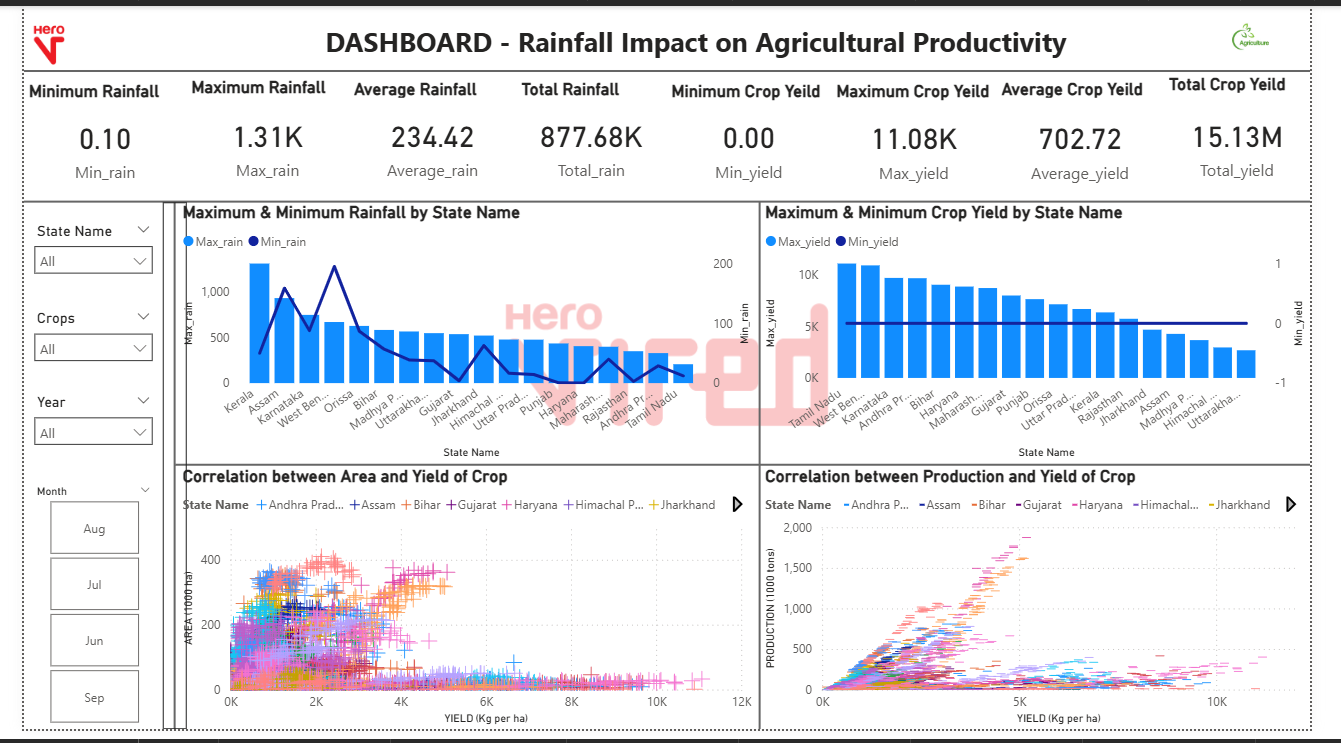

This screenshot's page, from the dashboard's own definition file:
{"tool":"powerbi","page":{"name":"Final Dashboard-3","canvas":[1280,720],"ordinal":2},"visuals":[{"type":"shape","box":[0,47.3,1280,34.8],"z":0},{"type":"image","box":[0,0,51,74.6],"z":1000},{"type":"textbox","box":[287.4,12.4,760.1,48.5],"z":2000},{"type":"slicer","fields":{"Values":["Dim_year.Year"]},"box":[0,380.7,138.1,64.7],"z":3000},{"type":"slicer","fields":{"Values":["Dim_crop.Crops"]},"box":[0,297.3,138.1,62.2],"z":4000},{"type":"slicer","fields":{"Values":["Dim_state.State Name"]},"box":[0,210.2,138.1,62.2],"z":5000},{"type":"shape","box":[0,179.1,1280,31.1],"z":6000},{"type":"shape","box":[150.5,436.6,1129.5,39.8],"z":7000},{"type":"shape","box":[721.5,194.1,21.1,526.2],"z":8000},{"type":"slicer","fields":{"Values":["Dim_rain_month.Month"]},"box":[0,471.5,138.1,248.8],"z":9000},{"type":"shape","box":[138.1,195.3,23.6,525],"z":10000},{"type":"card","title":"Average Crop Yeild","fields":{"Values":["All_Measures.Average_yeild"]},"box":[967.8,72.1,166.7,119.4],"z":11000},{"type":"card","title":"Average Rainfall","fields":{"Values":["All_Measures.Average_rain"]},"box":[323.4,72.1,166.7,114.4],"z":12000},{"type":"card","title":"Total Crop Yeild","fields":{"Values":["All_Measures.Total_yeild"]},"box":[1134.5,67.2,145.5,124.4],"z":13000},{"type":"card","title":"Maximum Crop Yeild","fields":{"Values":["All_Measures.Max_yeild"]},"box":[803.6,74.6,164.2,114.4],"z":14000},{"type":"card","title":"Minimum Crop Yeild","fields":{"Values":["All_Measures.Min_yeild"]},"box":[639.4,74.6,164.2,112],"z":15000},{"type":"card","title":"Total Rainfall","fields":{"Values":["All_Measures.Total_rain"]},"box":[490.1,72.1,149.3,114.4],"z":16000},{"type":"card","title":"Maximum Rainfall","fields":{"Values":["All_Measures.Max_rain"]},"box":[161.7,70.9,161.7,116.9],"z":17000},{"type":"card","title":"Minimum Rainfall","fields":{"Values":["All_Measures.Min_rain"]},"box":[0,74.6,161.7,113.2],"z":18000},{"type":"image","box":[1160.6,0,119.4,61],"z":19000},{"type":"lineStackedColumnComboChart","title":"Maximum & Minimum Rainfall by State Name","fields":{"Category":["Dim_state.State Name"],"Y":["All_Measures.Max_rain"],"Y2":["All_Measures.Min_rain"]},"box":[153,195.3,576,260],"z":20000},{"type":"lineStackedColumnComboChart","title":"Maximum & Minimum Crop Yield by State Name","fields":{"Category":["Dim_state.State Name"],"Y":["All_Measures.Max_yeild"],"Y2":["All_Measures.Min_yeild"]},"box":[732.7,195.3,547.3,260],"z":21000},{"type":"scatterChart","title":"Correlation between Area and Yield of Crop","fields":{"Y":["Fact_agri.AREA (1000 ha)"],"X":["Fact_agri.YIELD (Kg per ha)"],"Series":["Dim_state.State Name"]},"box":[153,457.8,576,262.5],"z":22000},{"type":"scatterChart","title":"Correlation between Production and Yield of Crop","fields":{"X":["Fact_agri.YIELD (Kg per ha)"],"Series":["Dim_state.State Name"],"Y":["Fact_agri.PRODUCTION (1000 tons)"]},"box":[732.7,457.8,547.3,262.5],"z":23000}]}

Visuals, with their boxes in screenshot pixels (x1, y1, x2, y2), scaled from the page's 1280x720 canvas onto the 1341x743 screenshot:
shape: Rect(0, 49, 1340, 85)
image: Rect(0, 0, 53, 77)
textbox: Rect(301, 13, 1097, 63)
slicer - Dim_year.Year: Rect(0, 393, 145, 460)
slicer - Dim_crop.Crops: Rect(0, 307, 145, 371)
slicer - Dim_state.State Name: Rect(0, 217, 145, 281)
shape: Rect(0, 185, 1340, 217)
shape: Rect(158, 451, 1340, 492)
shape: Rect(756, 200, 778, 742)
slicer - Dim_rain_month.Month: Rect(0, 487, 145, 742)
shape: Rect(145, 202, 169, 742)
"Average Crop Yeild" card: Rect(1014, 74, 1189, 198)
"Average Rainfall" card: Rect(339, 74, 513, 192)
"Total Crop Yeild" card: Rect(1189, 69, 1340, 198)
"Maximum Crop Yeild" card: Rect(842, 77, 1014, 195)
"Minimum Crop Yeild" card: Rect(670, 77, 842, 193)
"Total Rainfall" card: Rect(513, 74, 670, 192)
"Maximum Rainfall" card: Rect(169, 73, 339, 194)
"Minimum Rainfall" card: Rect(0, 77, 169, 194)
image: Rect(1216, 0, 1340, 63)
"Maximum & Minimum Rainfall by State Name" lineStackedColumnComboChart: Rect(160, 202, 764, 470)
"Maximum & Minimum Crop Yield by State Name" lineStackedColumnComboChart: Rect(768, 202, 1340, 470)
"Correlation between Area and Yield of Crop" scatterChart: Rect(160, 472, 764, 742)
"Correlation between Production and Yield of Crop" scatterChart: Rect(768, 472, 1340, 742)
